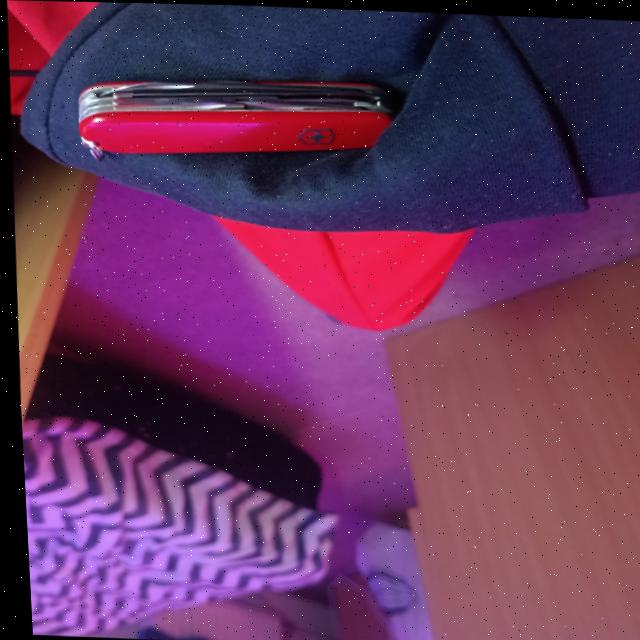knife victorinox: (69, 63, 405, 161)
